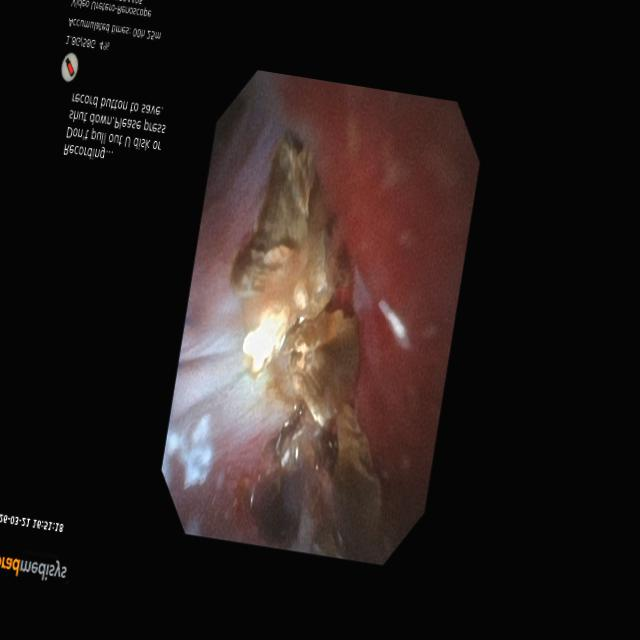laser-fibre: (170, 352, 247, 419)
laser_dot: (250, 320, 273, 360)
stone-new: (230, 134, 341, 376), (284, 310, 359, 426), (330, 406, 381, 537), (251, 474, 300, 548)
